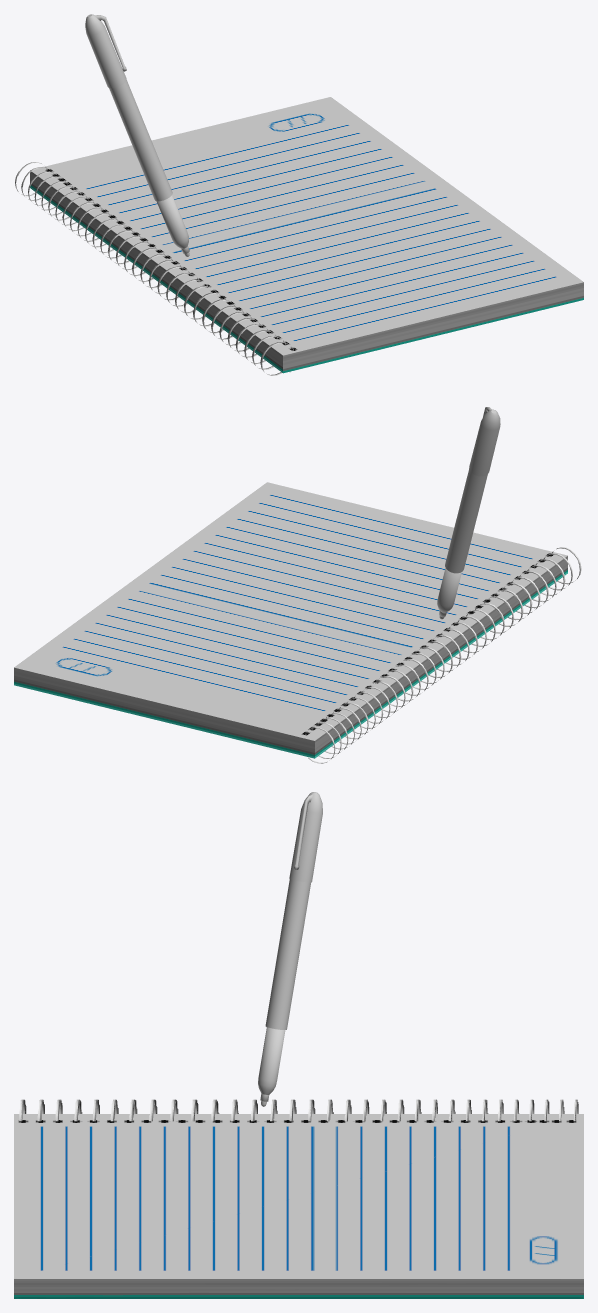
Rendered from Writing_Anim.FBX.
The picture shows the model from 3 angles, top to bottom: view 1: azimuth 30°, elevation 25°; view 2: azimuth 150°, elevation 25°; view 3: azimuth 270°, elevation 25°; orthographic projection. The views are drawn at different scales.
Parts seen in each view (by area): view 1: notepad_bottom, Notepad, Sharpie_Marker, Sharpie_Marker_CAP; view 2: notepad_bottom, Notepad, Sharpie_Marker, Sharpie_Marker_CAP; view 3: notepad_bottom, Sharpie_Marker, Notepad, Sharpie_Marker_CAP.
Part boxes in pixels (box(x1,y1,x2,y2)): notepad_bottom: box(30, 97, 583, 373); Notepad: box(15, 162, 293, 375); Sharpie_Marker: box(109, 80, 189, 256); Sharpie_Marker_CAP: box(85, 14, 126, 88); notepad_bottom: box(14, 482, 567, 758); Notepad: box(305, 547, 581, 763); Sharpie_Marker: box(437, 469, 487, 619); Sharpie_Marker_CAP: box(469, 407, 500, 476); notepad_bottom: box(14, 1114, 583, 1298); Sharpie_Marker: box(258, 879, 311, 1106); Notepad: box(19, 1099, 578, 1121); Sharpie_Marker_CAP: box(289, 792, 322, 882).
Size of the model in its own units: 30.32 by 22.28 by 36.46.
